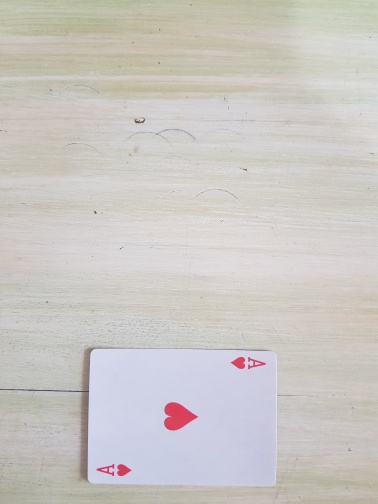ace: (86, 349, 280, 488)
